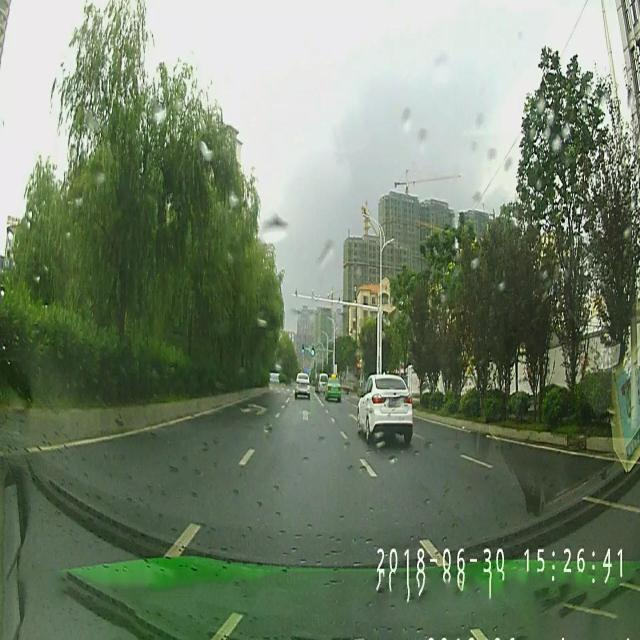car: (357, 372, 412, 443), (324, 372, 342, 404), (295, 370, 310, 397), (316, 372, 328, 394)
